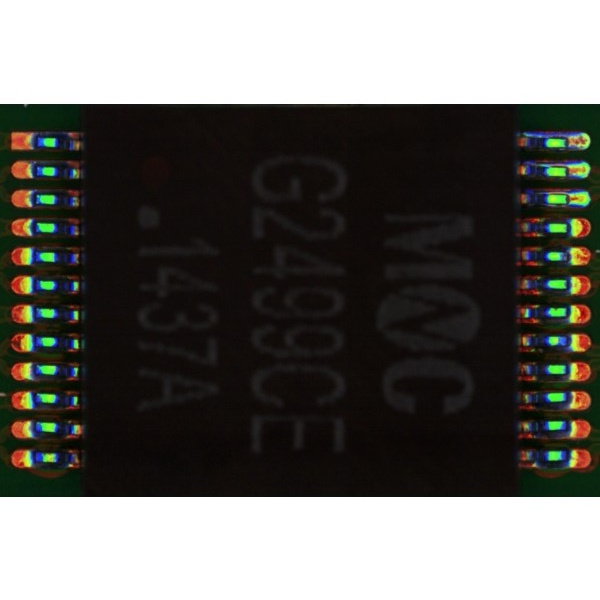Bad_podu: (559, 193, 577, 203), (560, 166, 579, 174), (563, 138, 576, 146)
Bad_qiaojiao: (523, 131, 566, 136), (526, 161, 567, 165), (535, 190, 569, 194)
